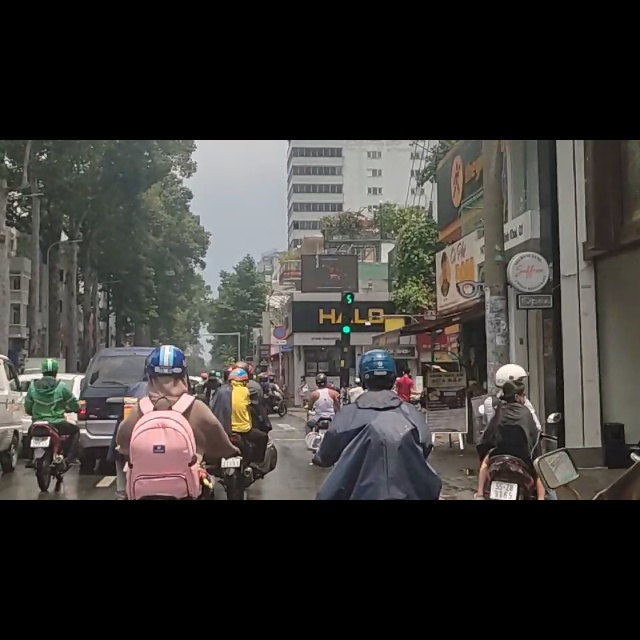bien_cam: (272, 329, 287, 356)
